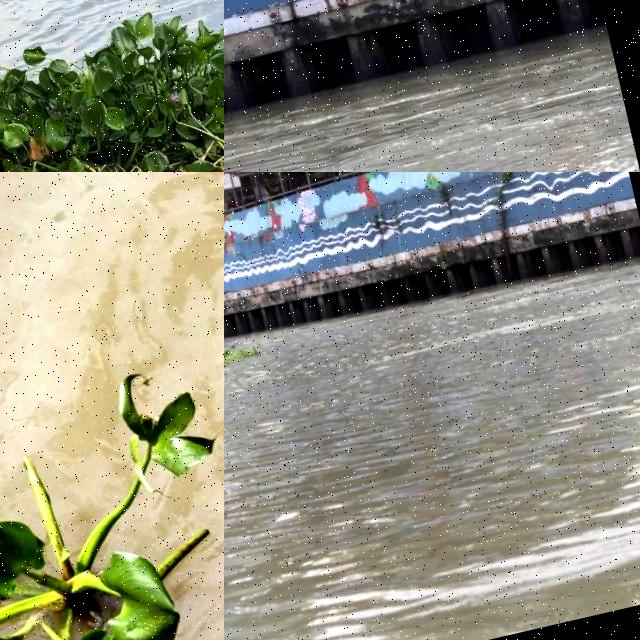water-hyacinth: (1, 370, 225, 640), (1, 1, 225, 173)
